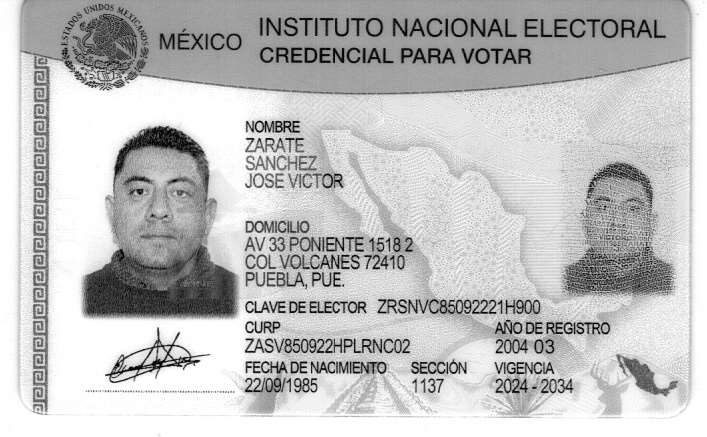ESCUDO: (62, 3, 149, 91)
MAPA: (614, 353, 679, 397)
PALABRA: (523, 18, 667, 39)
